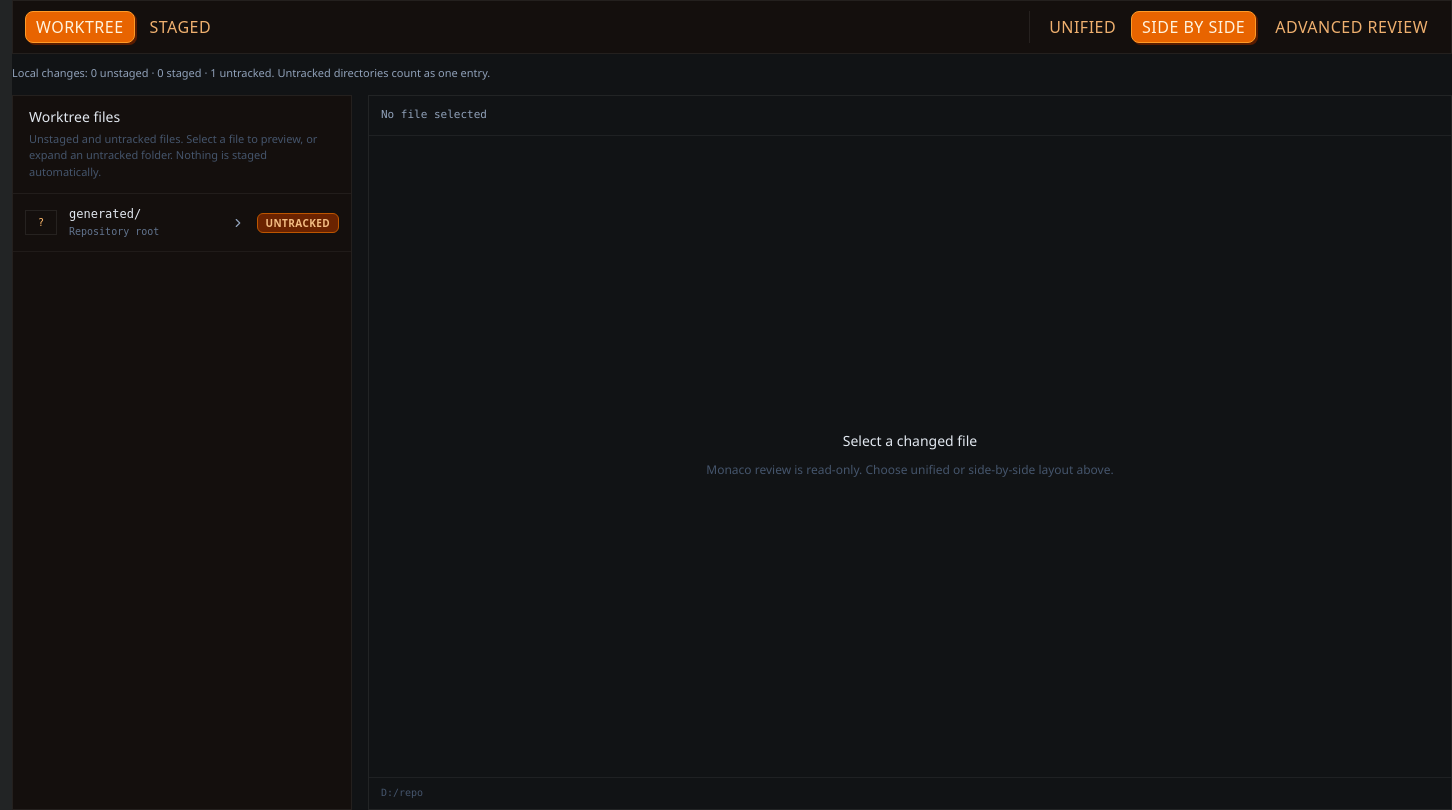
ChangesReview › clears an expanded untracked folder on workspace refresh
Click the button "? generated/ Repository root untracked": x=41, y=222 [13,194,351,252]
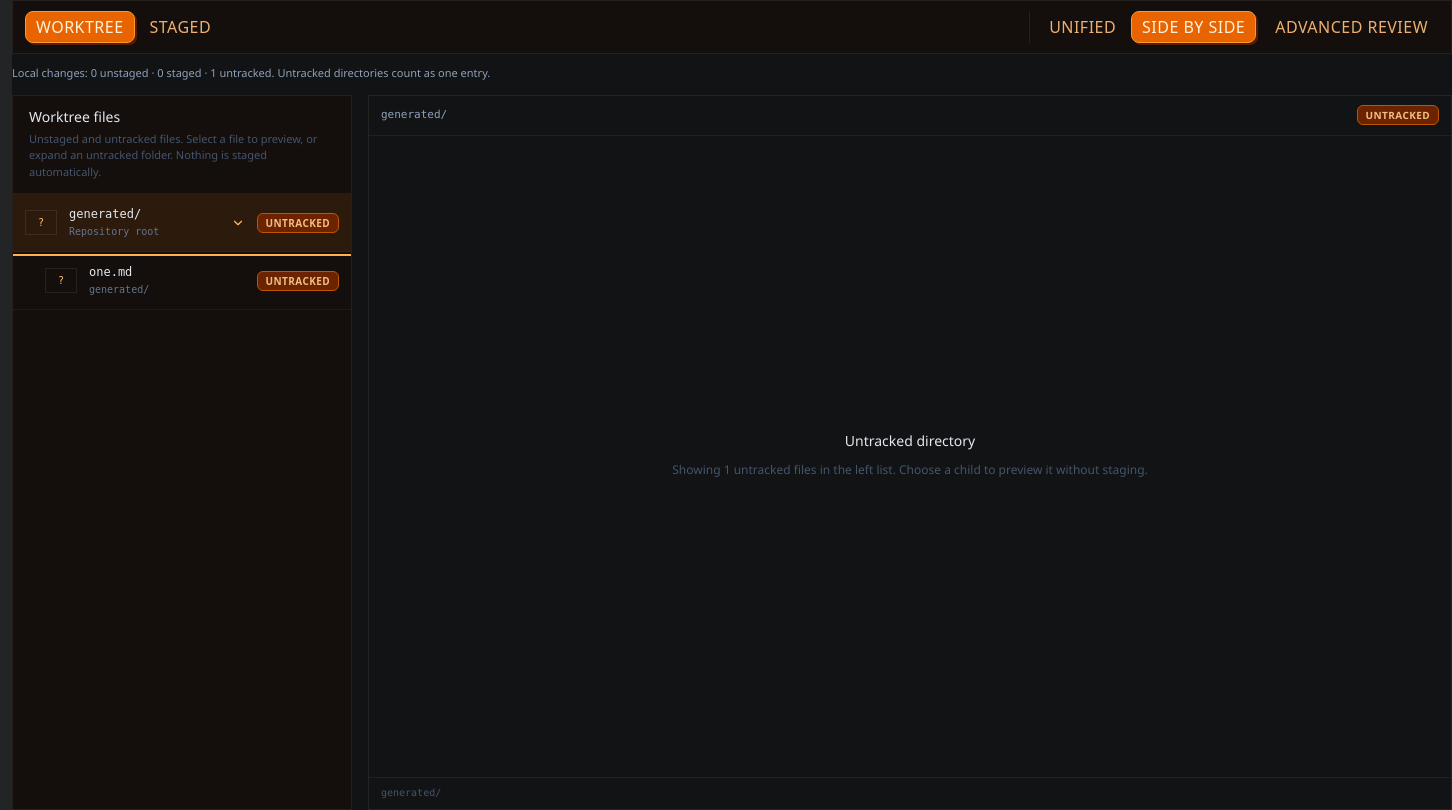
Result: the button with aria-label "generated/one.md" is shown at [13,252,351,310]
